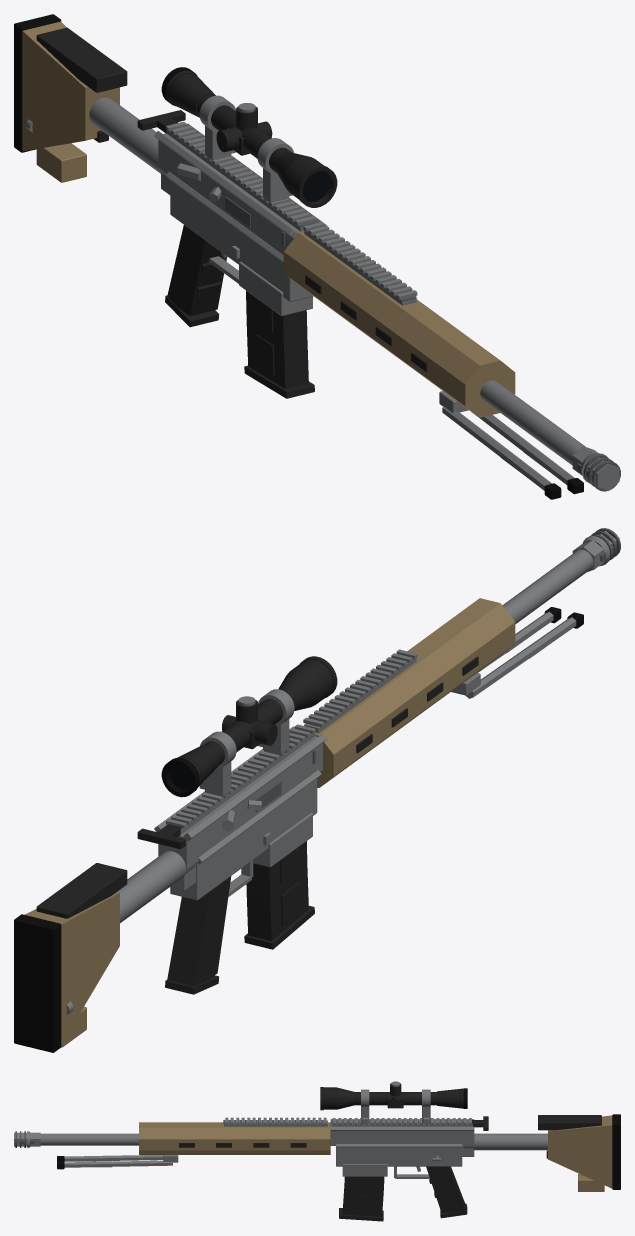
The model's file is Knt76.obj.
3 views of the same model, one above another, from view 1: azimuth 30°, elevation 25°; view 2: azimuth 150°, elevation 25°; view 3: azimuth 270°, elevation 25° (orthographic). The views are drawn at different scales.
Parts seen in each view (by area): view 1: Body, Magazine; view 2: Body, Magazine; view 3: Body, Magazine.
Boxes of the visible parts, box(x1,y1,x2,y2) form: Body: box(14, 14, 620, 499); Magazine: box(244, 291, 314, 398); Body: box(14, 528, 620, 1052); Magazine: box(244, 841, 314, 949); Body: box(14, 1081, 620, 1218); Magazine: box(339, 1176, 384, 1221).
Size of the model in its own units: 0.0623 by 0.2793 by 1.14.
